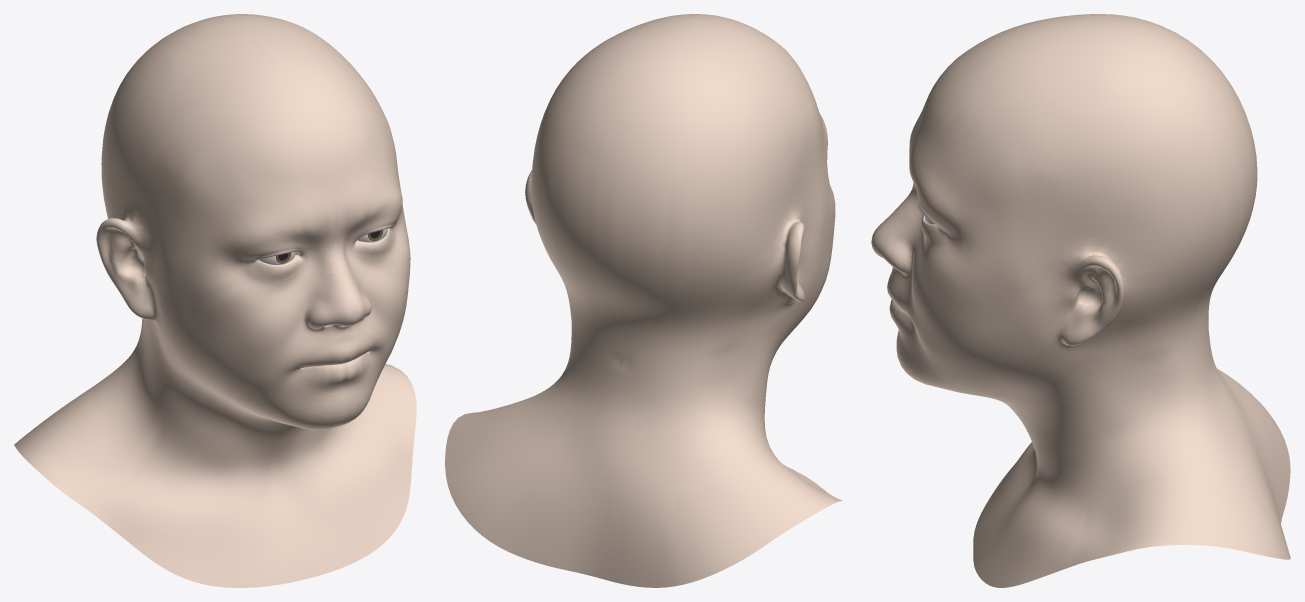
Rendered from docent.glb.
3 renders of one model, left to right at view 1: azimuth 30°, elevation 25°; view 2: azimuth 150°, elevation 25°; view 3: azimuth 270°, elevation 25°, orthographic. The views are drawn at different scales.
Parts seen in each view (by area): view 1: Head; view 2: Head; view 3: Head.
Part boxes in pixels (x1,y1,x2,y2): Head: [14, 14, 416, 587]; Head: [445, 14, 842, 587]; Head: [871, 14, 1290, 587].
Bounding box in the file's own units: 0.1928 × 0.25 × 0.1812.
